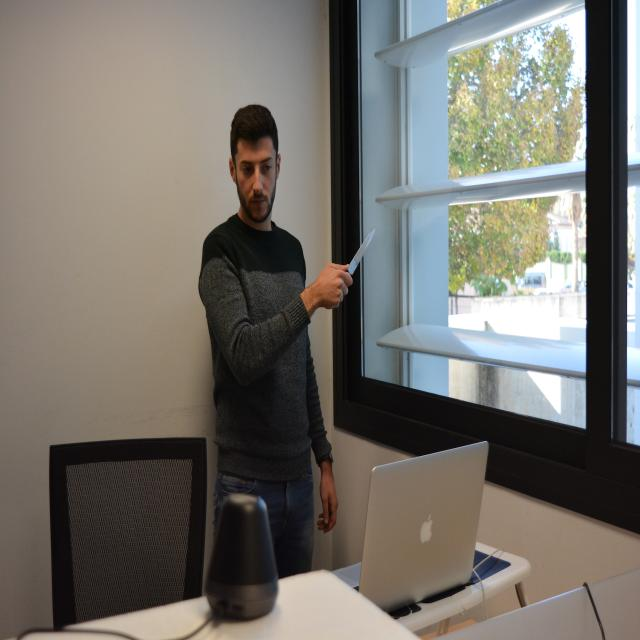knife: (349, 229, 379, 275)
